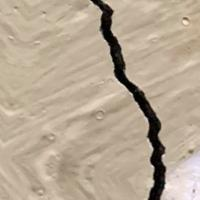crack: (75, 0, 175, 199)
